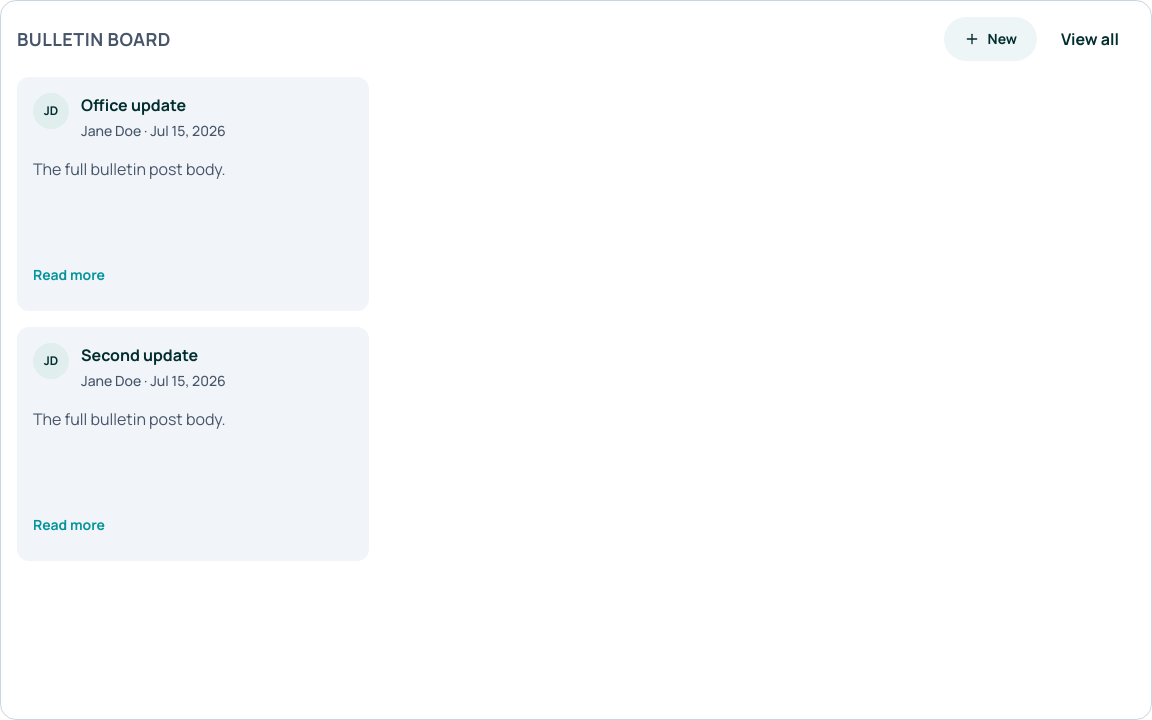
it: BulletinBoard › opens an bulletin post in a contained detail dialog and switches to the full list view
What coordinates should you click on to do the following:
click the button "Office update"
I would click on:
 (51, 111)
Its box is [17,77,369,311].
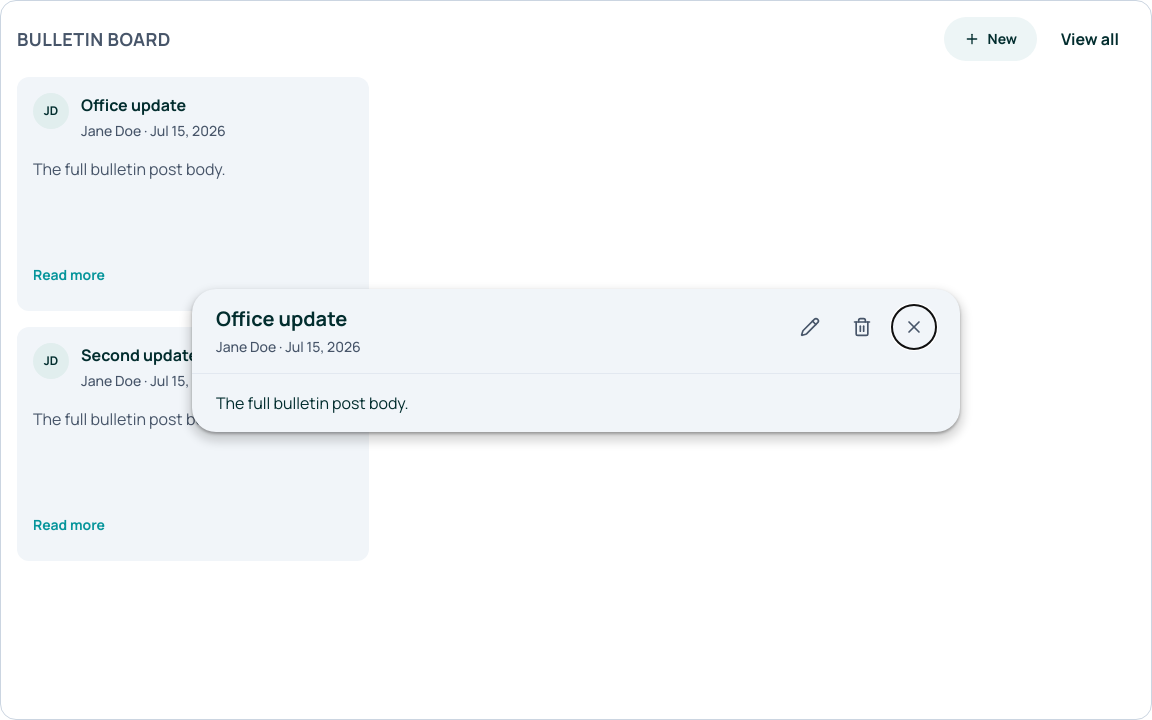
Check: the dialog "Office update" is shown, box [192,288,960,432]
What coordinates should you click on to do the following:
click the button named "Close bulletin post"
I would click on:
 (914, 326)
Its box is [892,304,936,348].
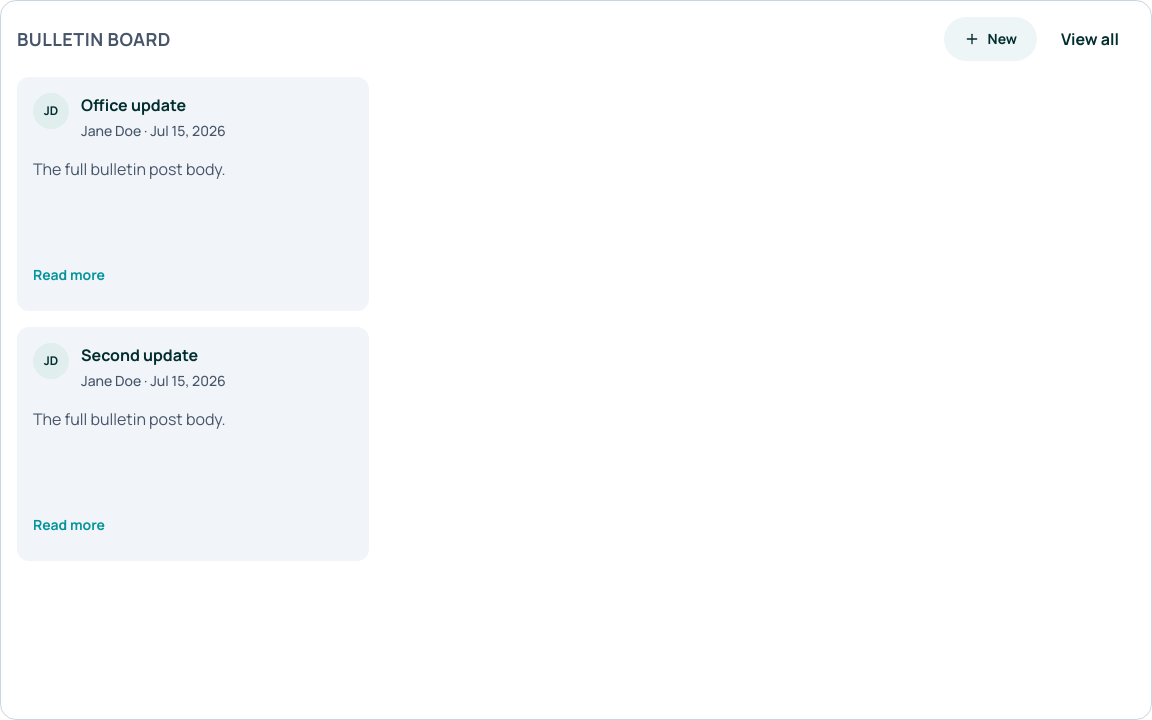
What coordinates should you click on to do the following:
click the button "View all"
I would click on:
 (1090, 39)
Its box is [1045,17,1135,61].
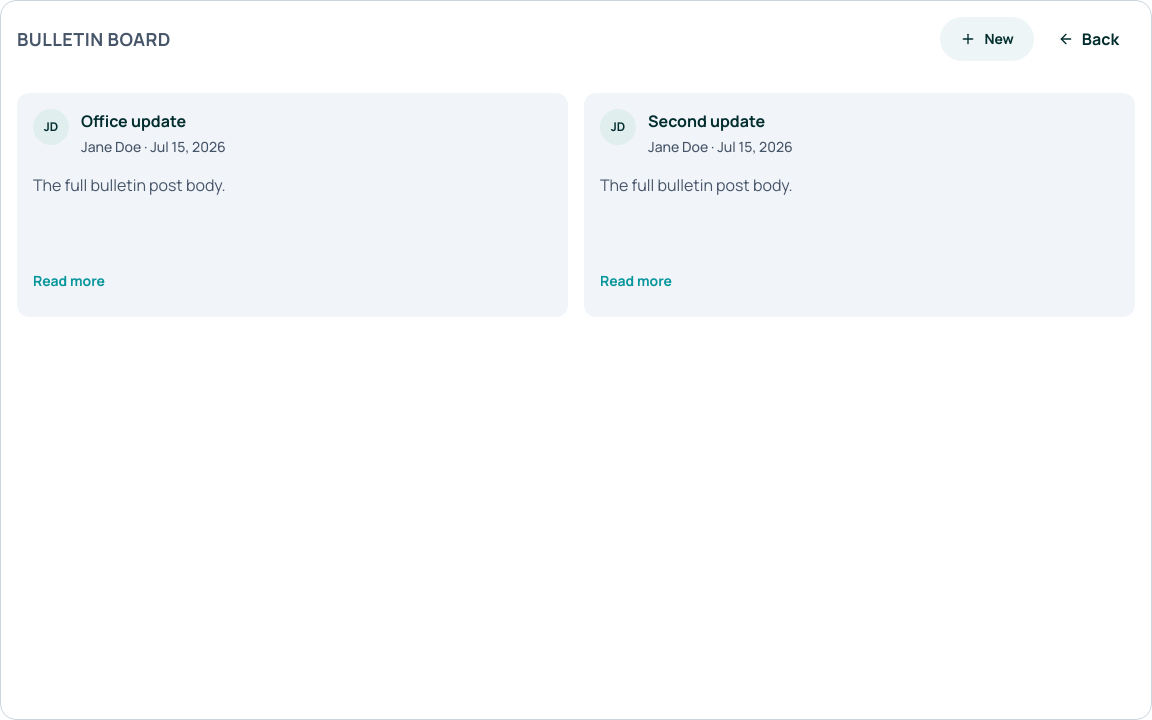
Check: the button "Back" is shown, box [1042,17,1135,61]
